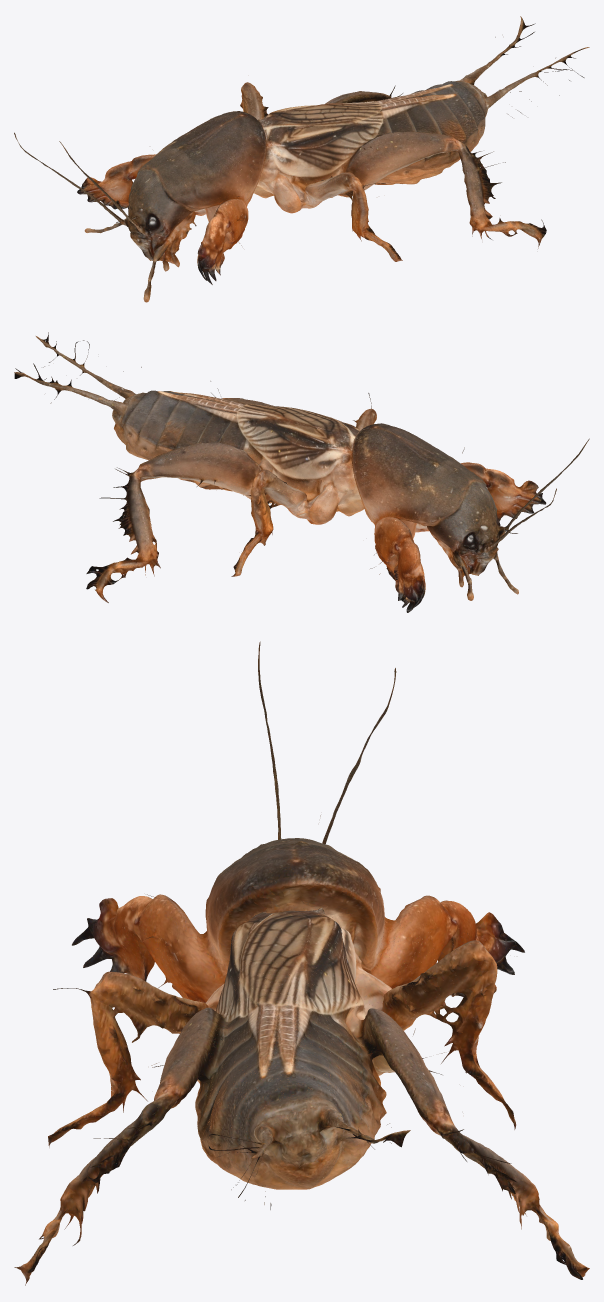
File: gryllotalpa_orientalis.glb
The picture shows the model from 3 angles, top to bottom: view 1: azimuth 30°, elevation 25°; view 2: azimuth 150°, elevation 25°; view 3: azimuth 270°, elevation 25°; orthographic projection. The views are drawn at different scales.
Visible parts, largest first — view 1: QS1320-W02-files2_5; view 2: QS1320-W02-files2_5; view 3: QS1320-W02-files2_5.
Boxes of the visible parts, box(x1,y1,x2,y2) form: QS1320-W02-files2_5: box(14, 16, 589, 302); QS1320-W02-files2_5: box(14, 332, 589, 612); QS1320-W02-files2_5: box(14, 641, 589, 1285).
Bounding box in the file's own units: 3.27 × 1.04 × 1.72.
1 material, 1 textured.
